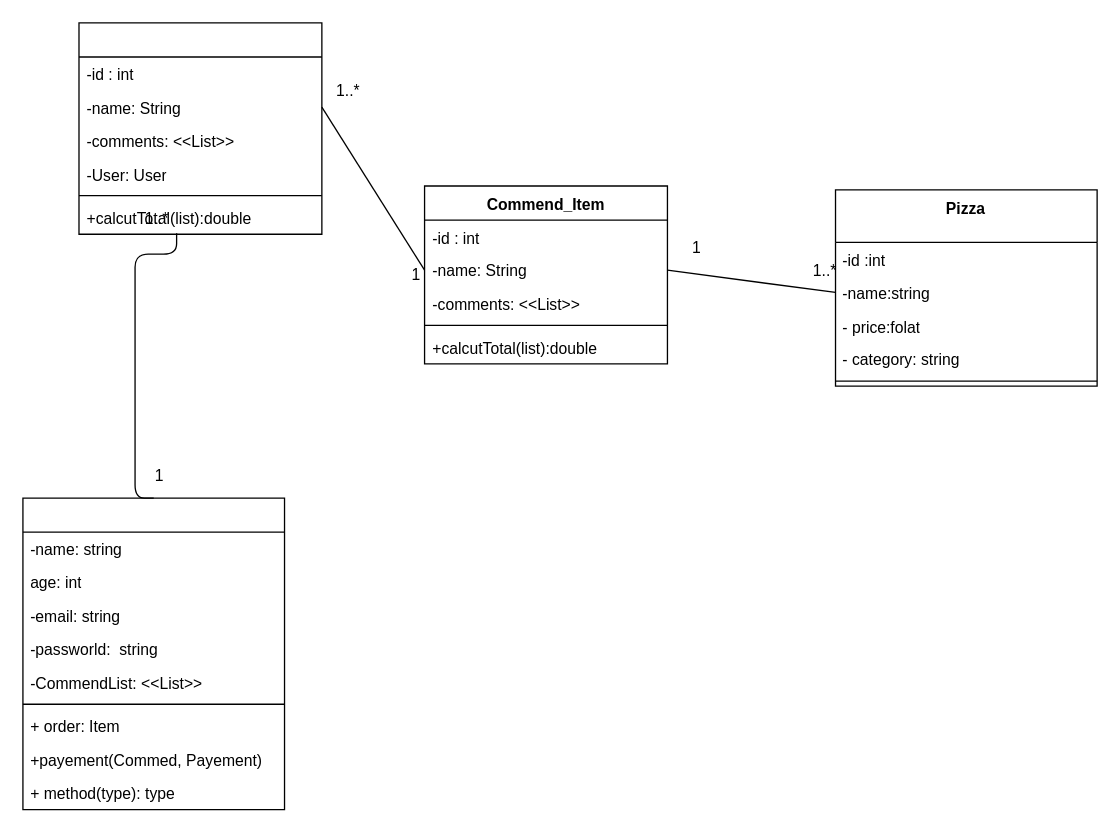
Some shapes in this 1120 by 836 pixel diagram are drawn without their labels. Each missing label, with the box of its shape:
Client: (22, 497, 285, 810)
Commend: (78, 22, 322, 234)
